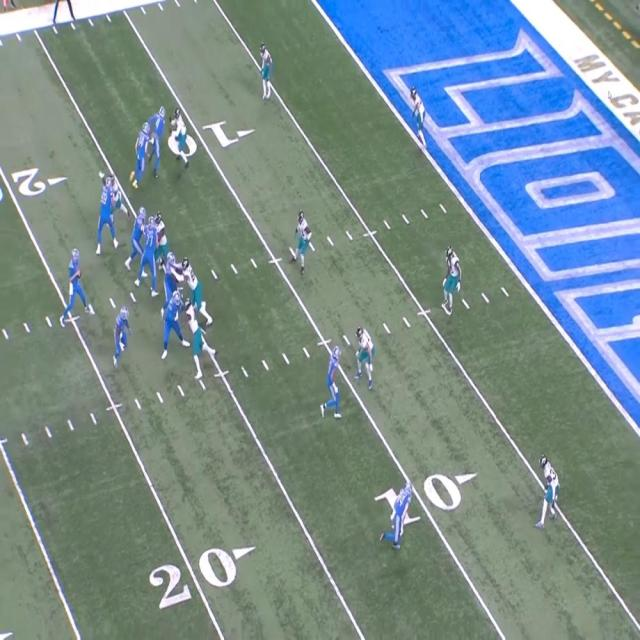db: (445, 246, 464, 312), (168, 110, 188, 169), (541, 458, 559, 516), (412, 88, 428, 152), (260, 43, 274, 89)
lb: (356, 326, 376, 384), (298, 211, 313, 261)
qb: (69, 252, 85, 316)
skill: (380, 483, 414, 545), (149, 103, 165, 177), (134, 122, 151, 187), (115, 306, 133, 365), (327, 347, 341, 397)
